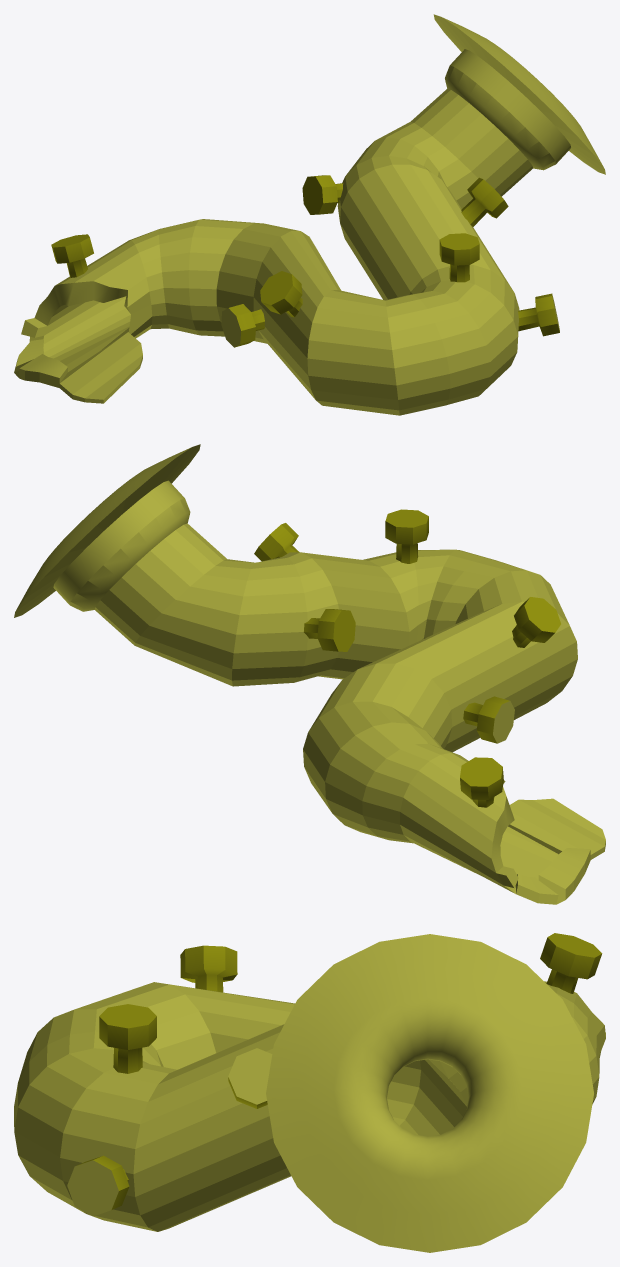
File: TubaTunnel.fbx
3 renders of one model, top to bottom at view 1: azimuth 30°, elevation 25°; view 2: azimuth 150°, elevation 25°; view 3: azimuth 270°, elevation 25°, orthographic. The views are drawn at different scales.
Parts seen in each view (by area): view 1: pCylinder30; view 2: pCylinder30; view 3: pCylinder30.
Boxes of the visible parts, box(x1,y1,x2,y2) form: pCylinder30: box(14, 14, 605, 415); pCylinder30: box(14, 444, 605, 904); pCylinder30: box(14, 933, 605, 1252).
Size of the model in its own units: 58.57 by 30.1 by 40.94.
